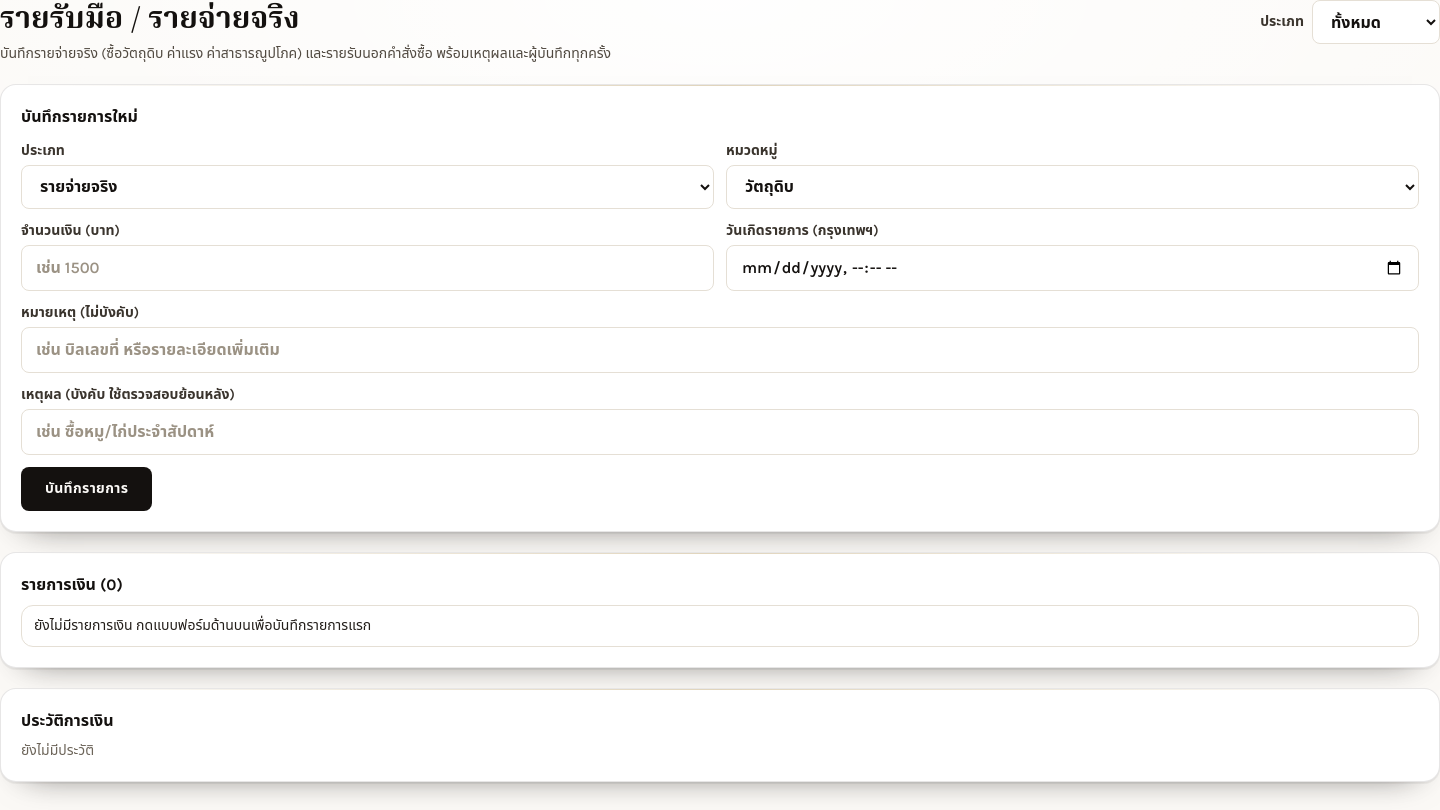
Test: บันทึกรายรับมือ/รายจ่ายจริง (ภาษาไทย) › บันทึกไม่สำเร็จแสดงข้อความ error จาก server
This screenshot has width=1440, height=810.
expect the text "ยังไม่มีรายการเงิน กดแบบฟอร์มด้านบนเพื่อบันทึกรายการแรก" is shown: met, box [21,604,1419,646]
Type "0" into the number field with placeholder "เช่น 1500" at coordinates (368, 268), box [21,244,714,290]
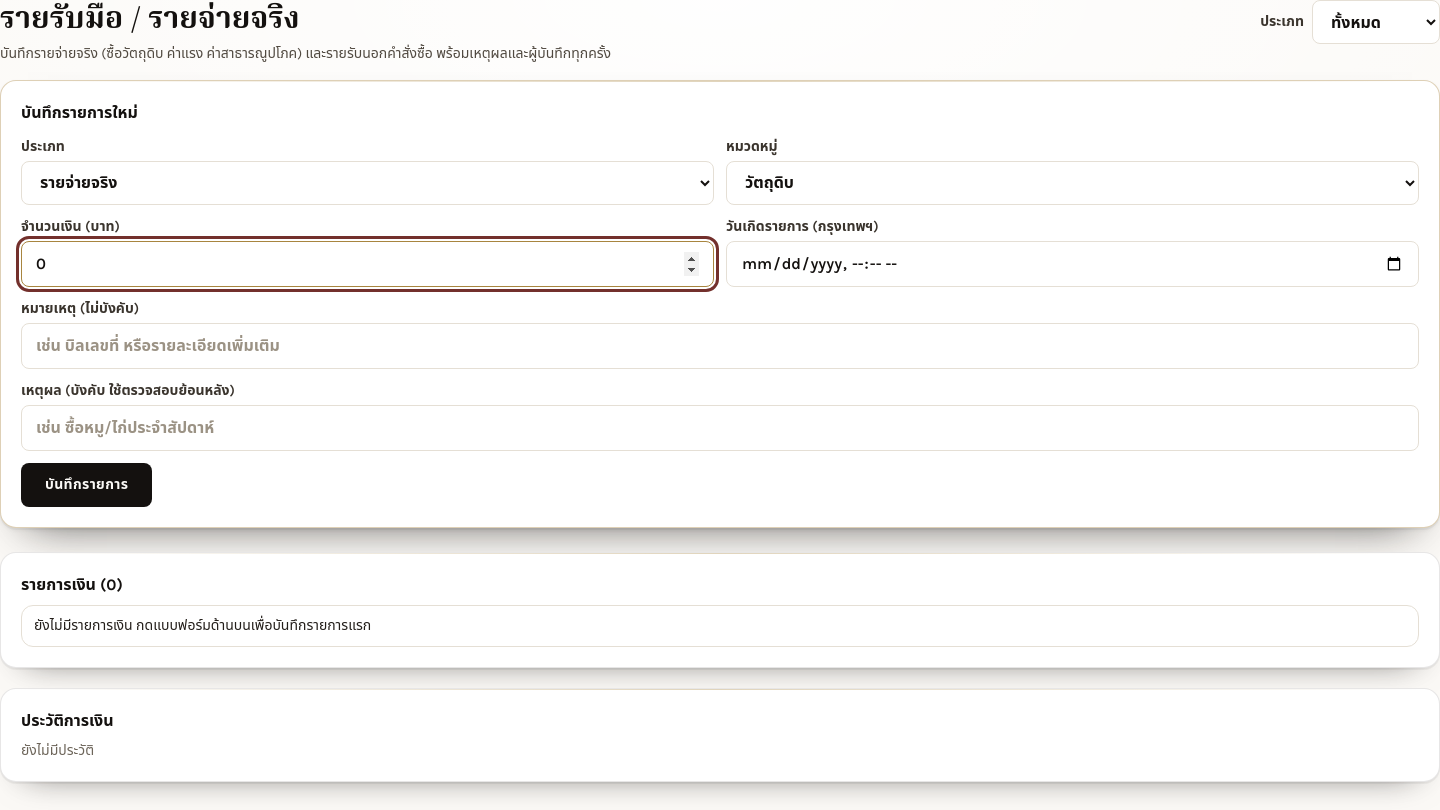
Type "2026-09-15T08:00" into the field labelled "วันเกิดรายการ (กรุงเทพฯ)" at coordinates (1072, 264), box [726,240,1419,286]
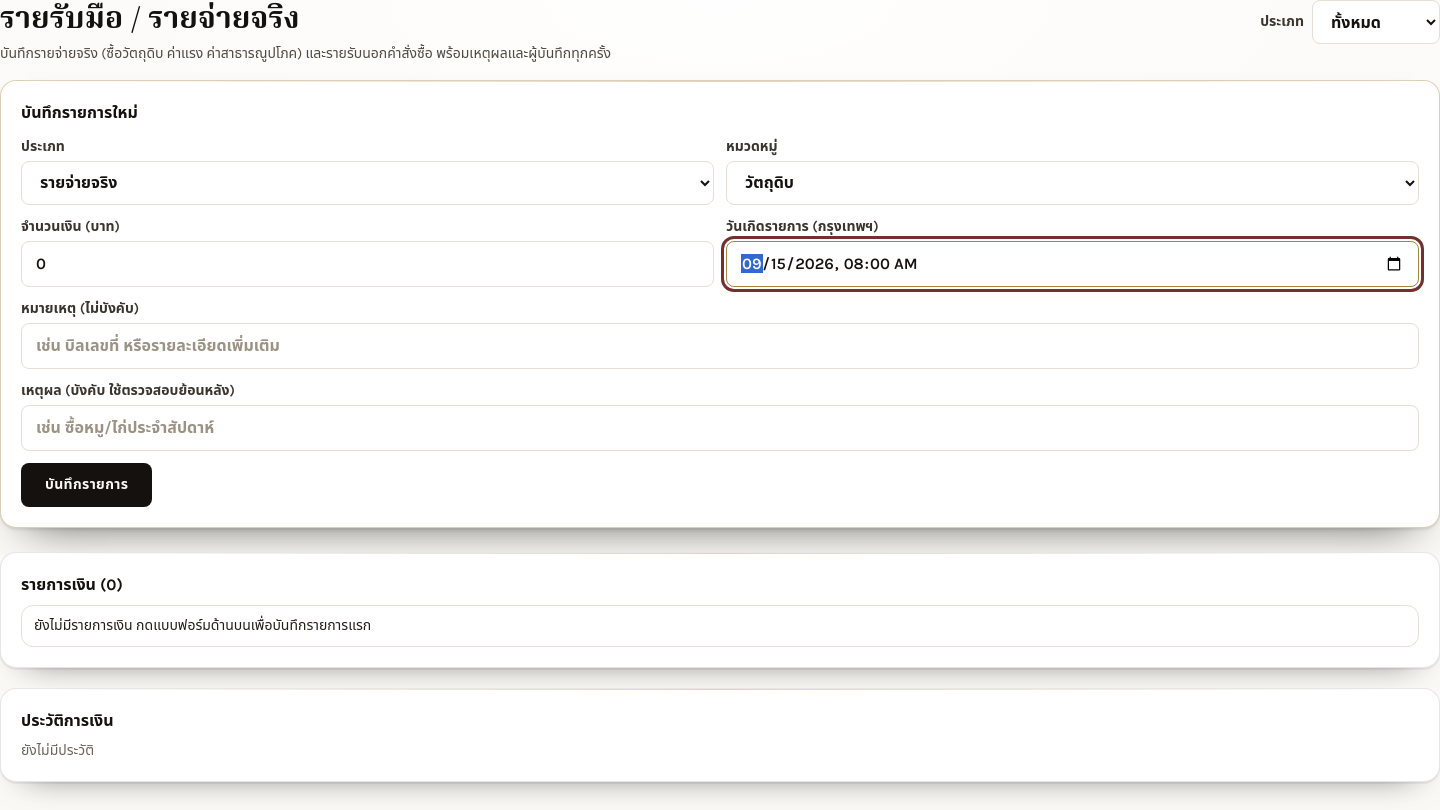
Type "ทดสอบ" into the field with placeholder "เช่น ซื้อหมู/ไก่ประจำสัปดาห์" at coordinates (720, 428), box [21,404,1419,450]
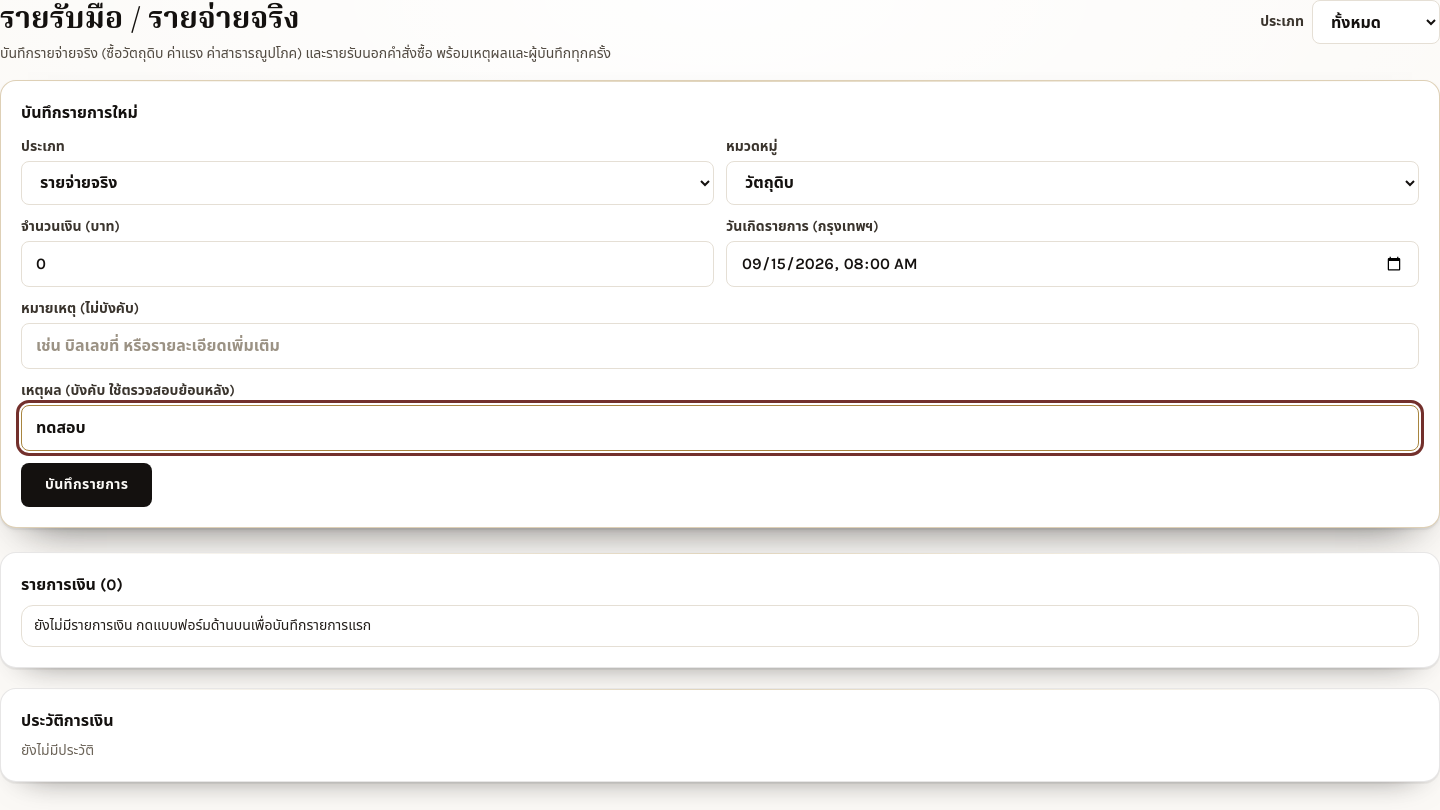
Click the button "บันทึกรายการ" at coordinates (87, 484), box [21,462,152,506]
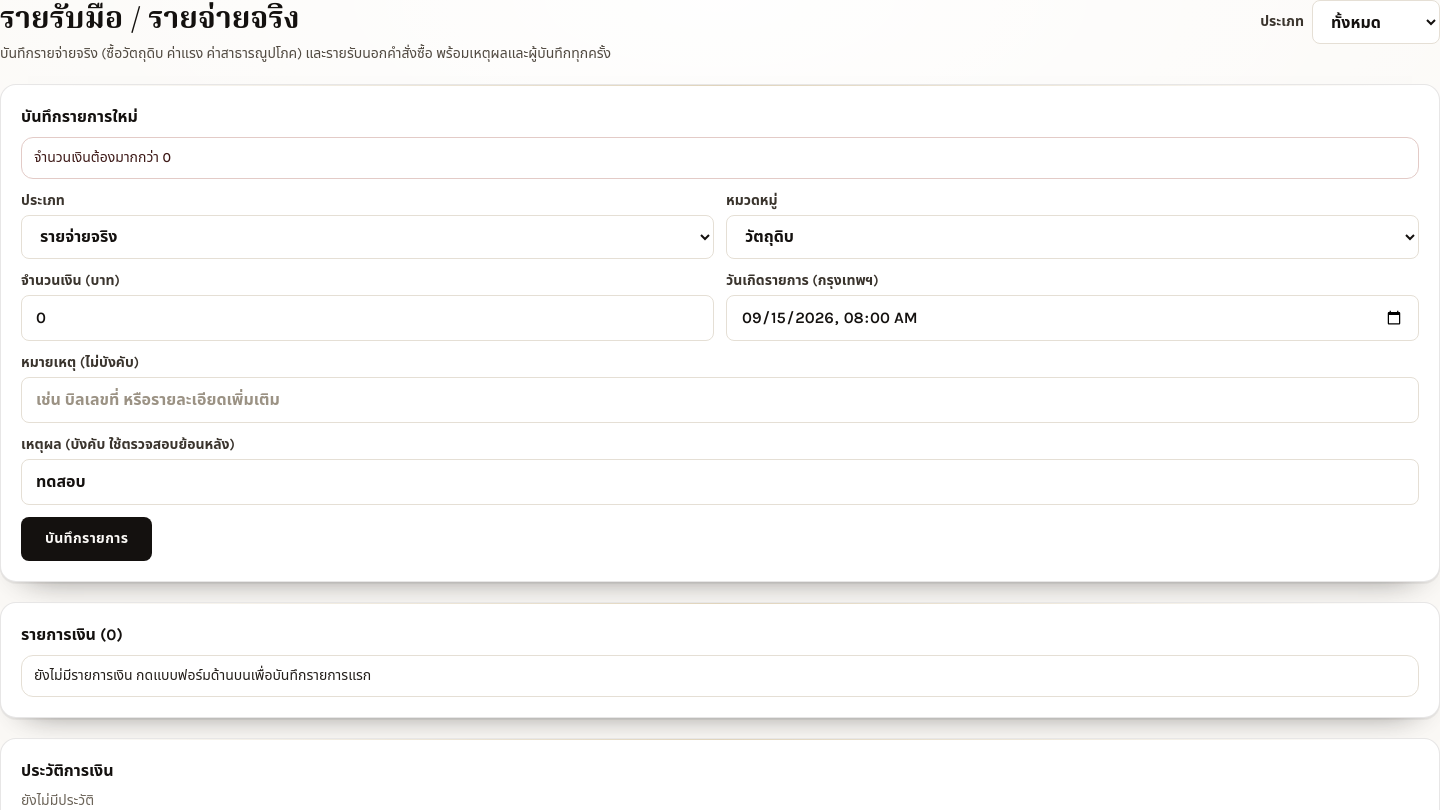
expect the text "จำนวนเงินต้องมากกว่า 0" is shown: met, box [21,136,1419,178]
